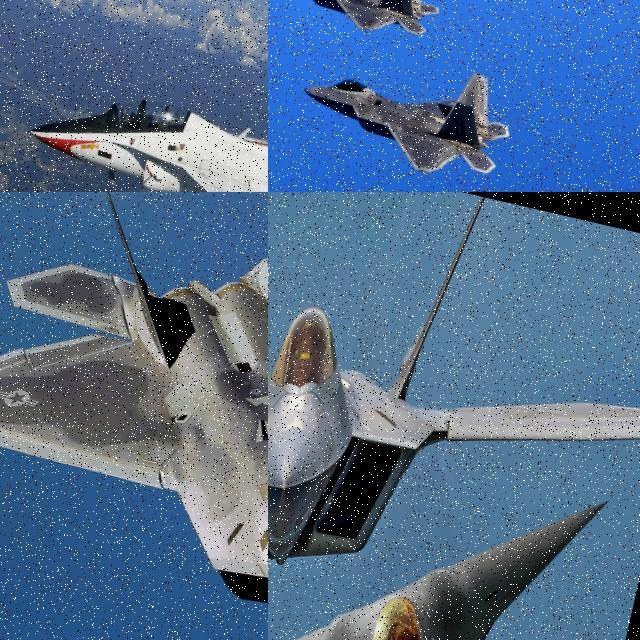F22: (268, 192, 640, 640), (0, 192, 268, 640), (289, 34, 519, 192), (268, 0, 444, 57)
KT-1: (8, 0, 268, 192)
